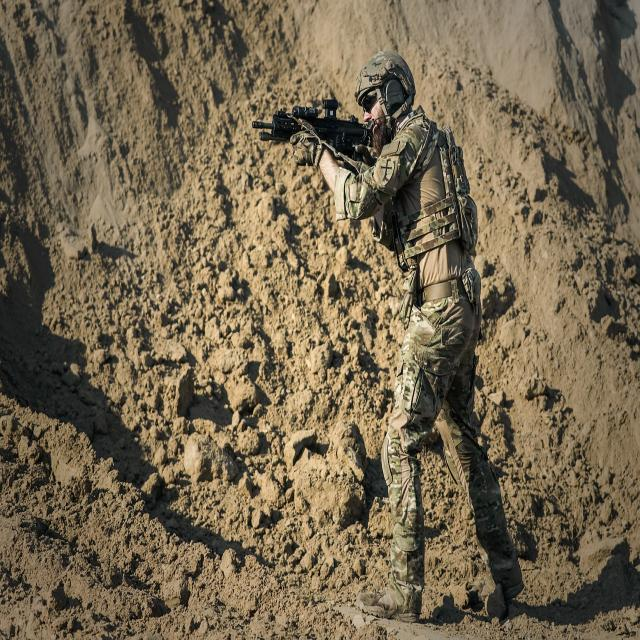Gun: (252, 98, 370, 161)
